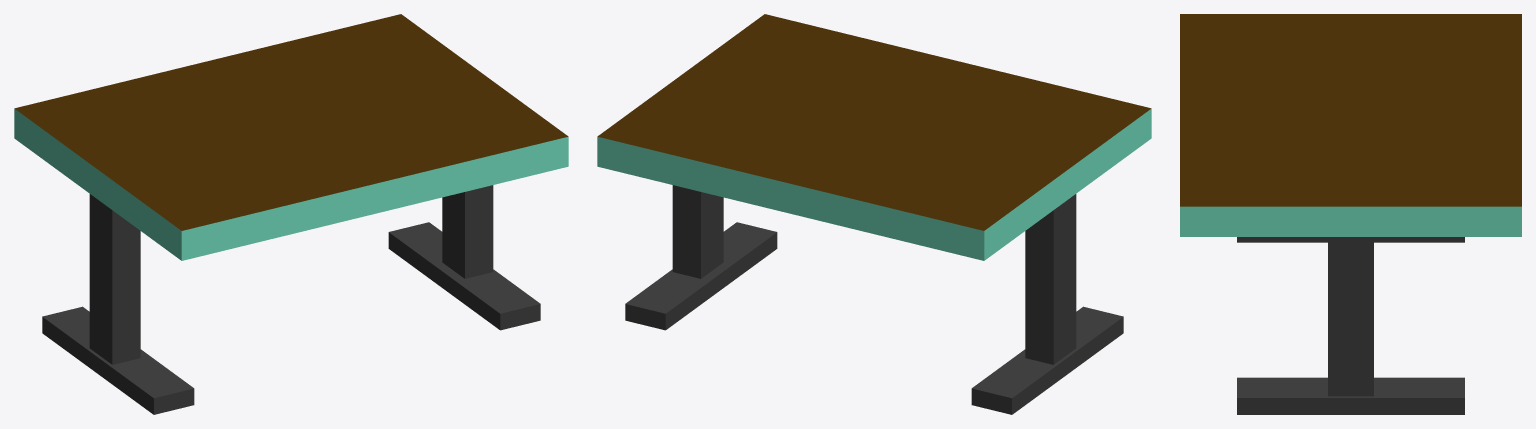
File: table.glb
3 renders of one model, left to right at view 1: azimuth 30°, elevation 25°; view 2: azimuth 150°, elevation 25°; view 3: azimuth 270°, elevation 25°, orthographic.
Parts seen in each view (by area): view 1: Cube, Cube.007, Cube.010, Cube.008, Cube.009; view 2: Cube, Cube.007, Cube.010, Cube.008, Cube.009; view 3: Cube, Cube.010, Cube.009, Cube.008.
Boxes of the visible parts, x1,y1,x2,y2 form: Cube: (14, 14, 568, 260); Cube.007: (89, 194, 140, 364); Cube.010: (388, 222, 540, 330); Cube.008: (42, 306, 194, 414); Cube.009: (442, 185, 493, 278); Cube: (597, 14, 1151, 260); Cube.007: (1025, 194, 1076, 364); Cube.010: (625, 222, 777, 330); Cube.008: (971, 306, 1123, 414); Cube.009: (672, 185, 723, 278); Cube: (1180, 14, 1521, 236); Cube.010: (1237, 377, 1464, 414); Cube.009: (1328, 237, 1373, 396); Cube.008: (1237, 237, 1464, 242).
Bounding box in the file's own units: 2 × 1.01 × 1.5.
